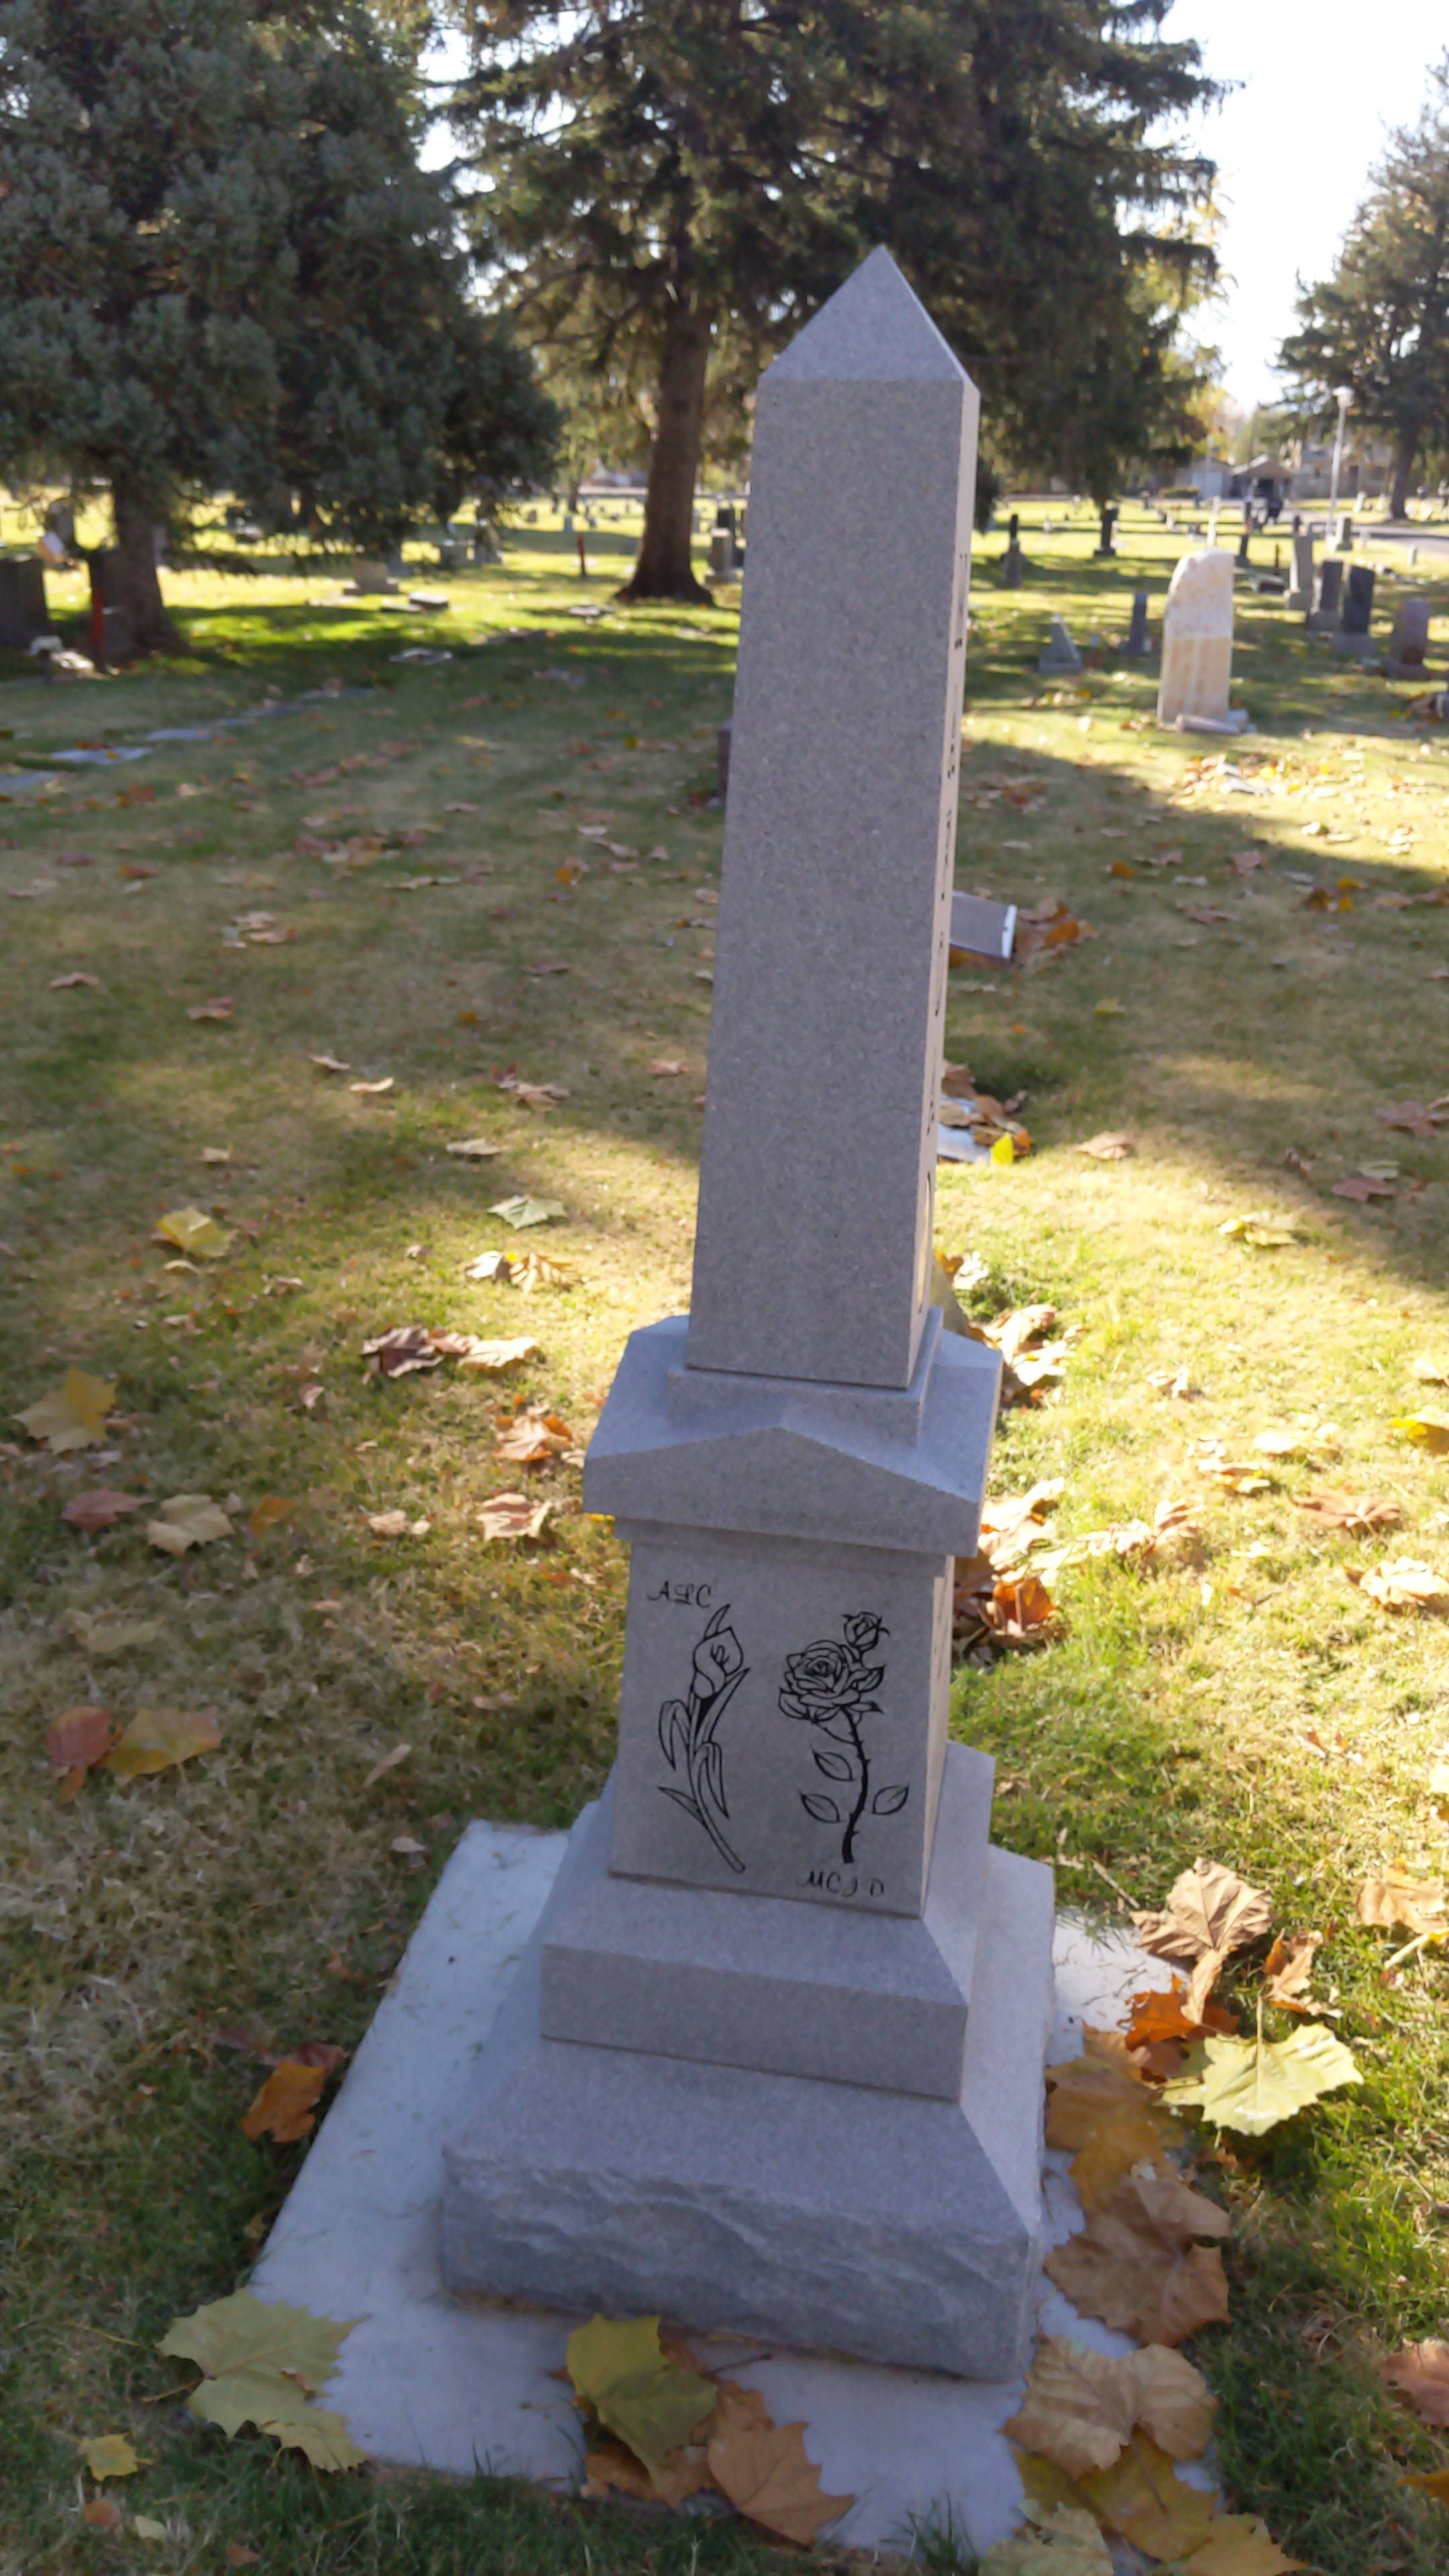obelisk: (536, 237, 996, 2075)
